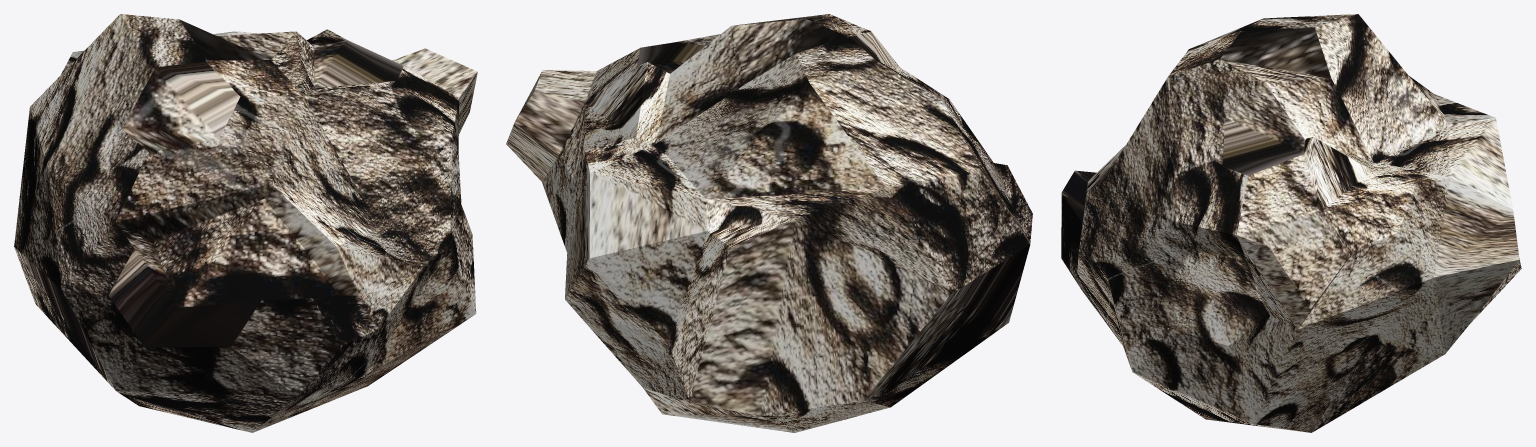
Rendered from met2.glb.
3 renders of one model, left to right at view 1: azimuth 30°, elevation 25°; view 2: azimuth 150°, elevation 25°; view 3: azimuth 270°, elevation 25°, orthographic. The views are drawn at different scales.
Parts seen in each view (by area): view 1: Icosphere; view 2: Icosphere; view 3: Icosphere.
Boxes of the visible parts, box(x1,y1,x2,y2) form: Icosphere: box(14, 14, 477, 432); Icosphere: box(506, 14, 1032, 432); Icosphere: box(1061, 14, 1521, 432).
Bounding box in the file's own units: 2.46 × 1.95 × 2.28.
1 material, 1 textured.
